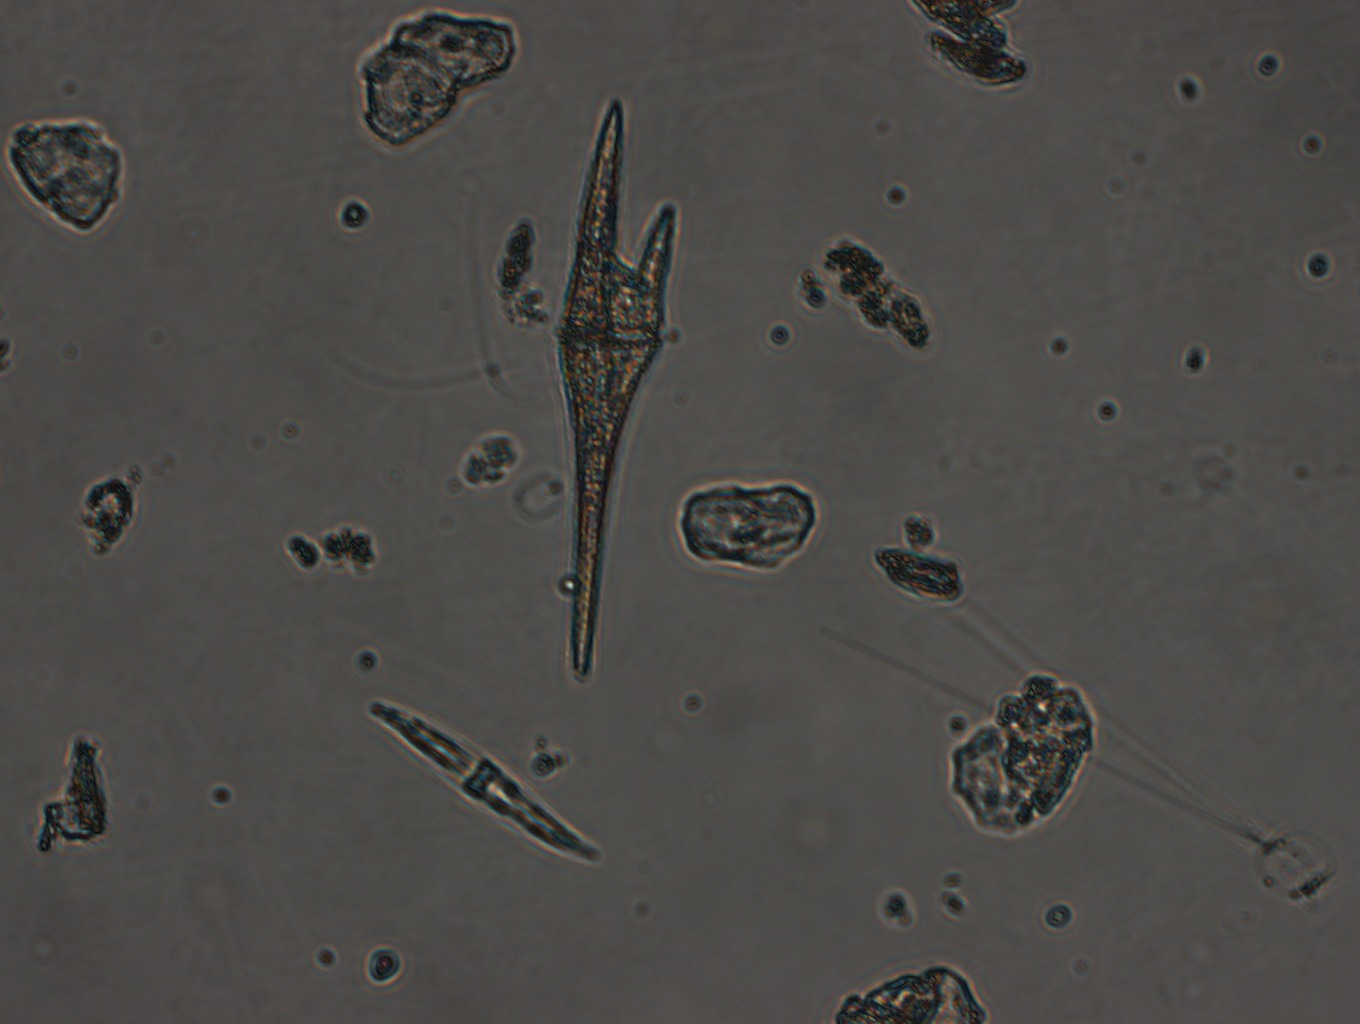ceratium furca: (552, 94, 695, 687)
pleurosigma pelagicum: (376, 694, 606, 878)
